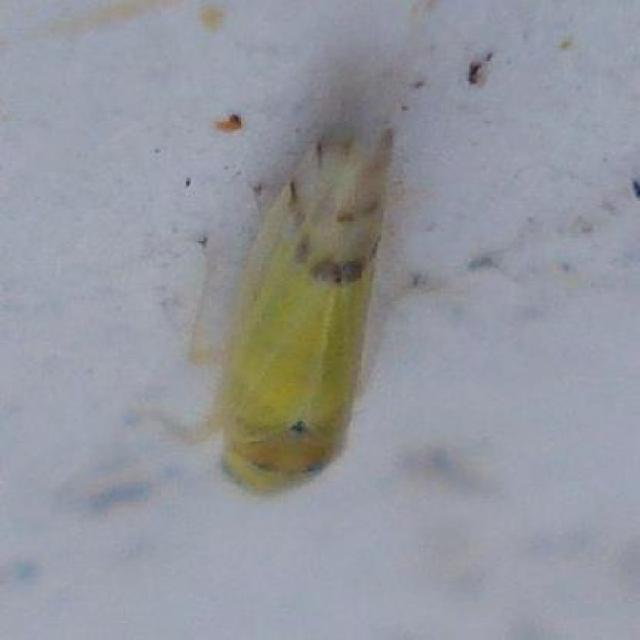green-leafhopper: (149, 98, 403, 496)
